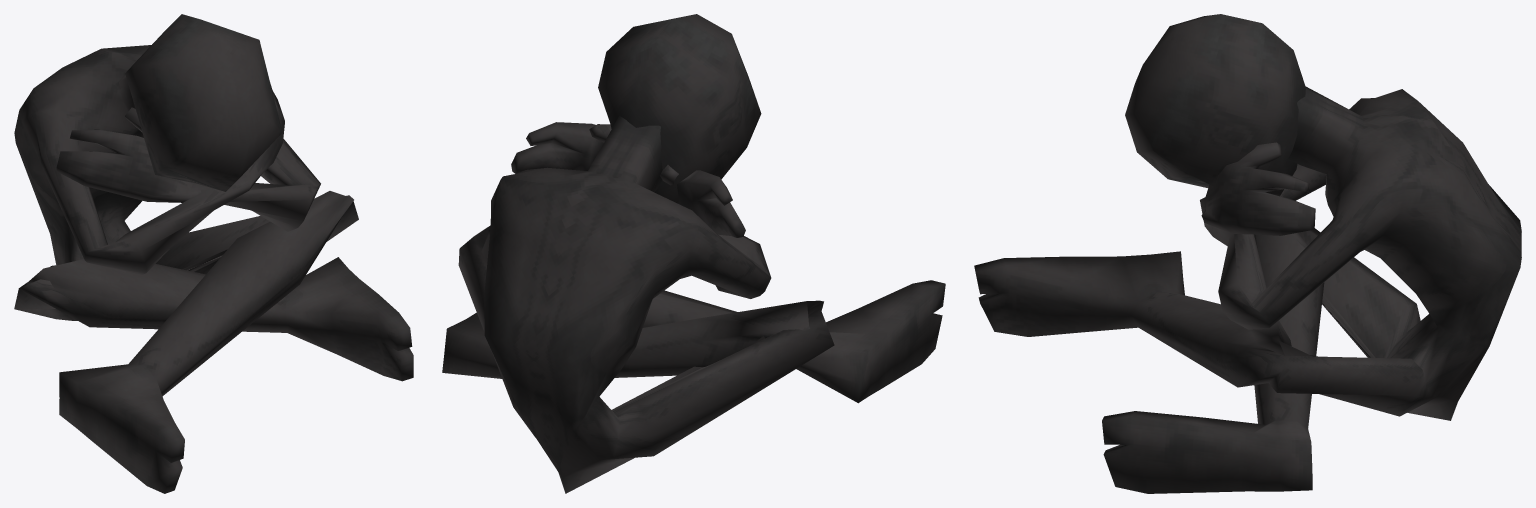
File: GhostMainBody001.fbx
The picture shows the model from 3 angles, left to right: view 1: azimuth 30°, elevation 25°; view 2: azimuth 150°, elevation 25°; view 3: azimuth 270°, elevation 25°; orthographic projection. The views are drawn at different scales.
Parts seen in each view (by area): view 1: Ghoul Body.007, Ghoul Head.002; view 2: Ghoul Body.007, Ghoul Head.002; view 3: Ghoul Body.007, Ghoul Head.002.
Boxes of the visible parts, x1,y1,x2,y2 form: Ghoul Body.007: (14,45,413,493); Ghoul Head.002: (125,14,282,191); Ghoul Body.007: (442,116,945,493); Ghoul Head.002: (598,14,761,203); Ghoul Body.007: (974,86,1521,493); Ghoul Head.002: (1125,14,1305,196).
Size of the model in its own units: 313 by 321 by 392.
